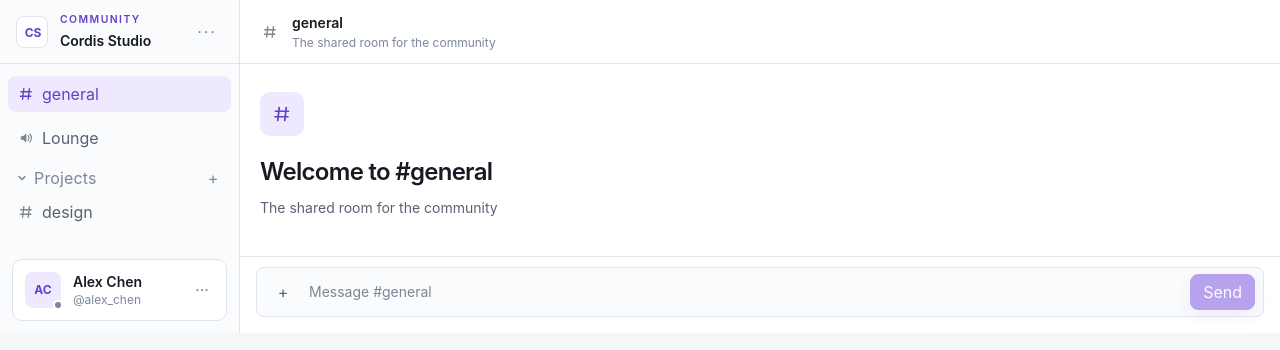
Test: GuildPage › keeps channel create actions for the owner even without Manage Channels on roles
Click the button named "Community menu": (207, 32) [191,16,223,48]
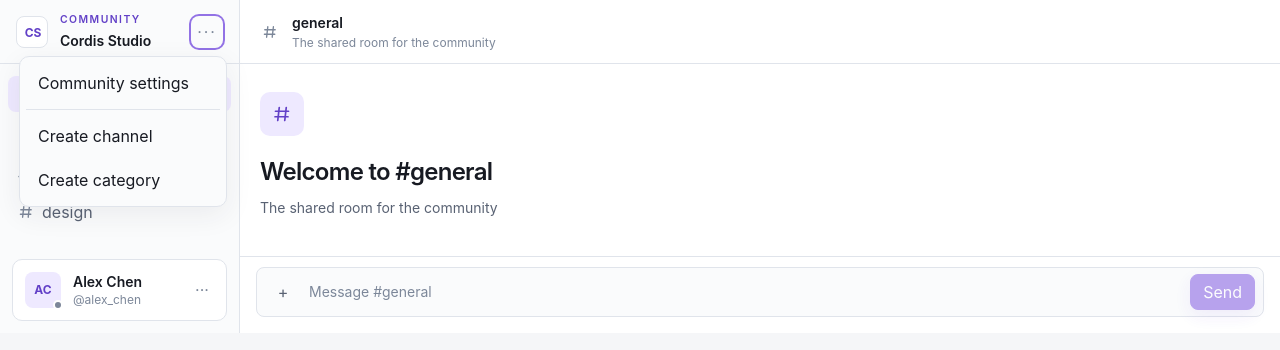
Now the menu item "Create channel" is shown, box [26,116,220,156]
Now the menu item "Create category" is shown, box [26,160,220,200]
